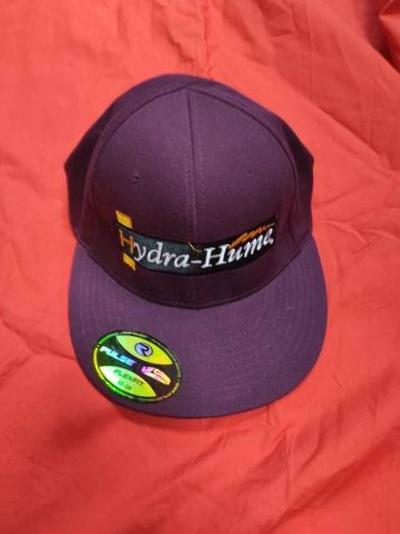Hat: (16, 33, 365, 457)
